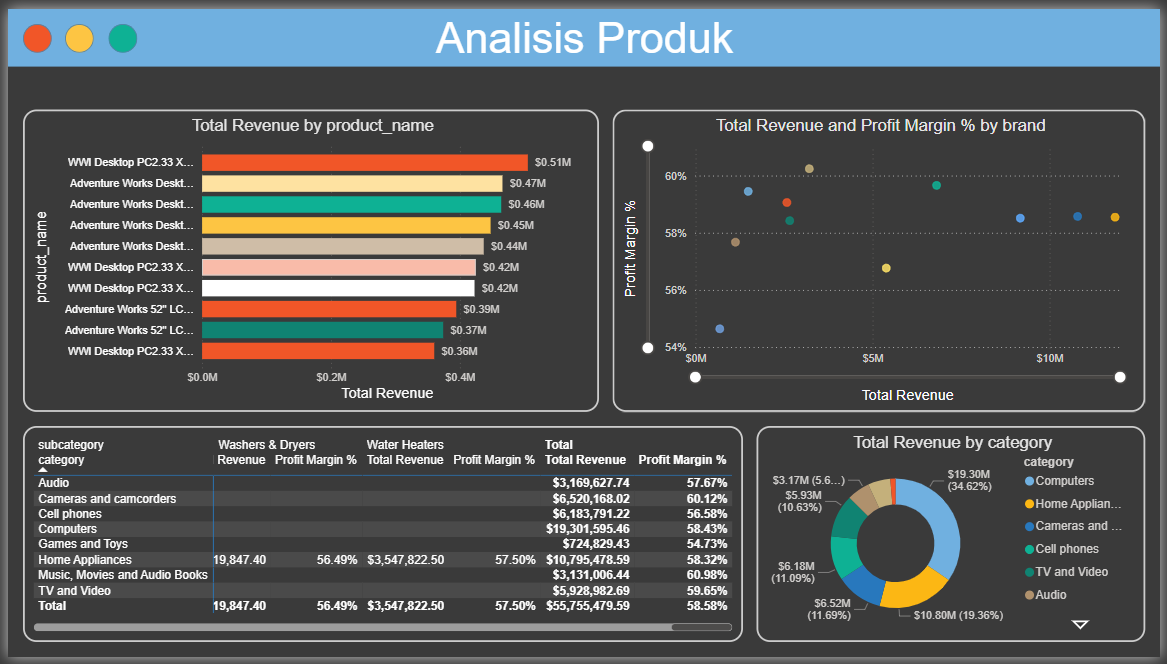

Layout of this report page (visuals, bound fields, positions):
{"tool":"powerbi","page":{"name":"Analisis Produk","canvas":[1280,720],"ordinal":1},"visuals":[{"type":"clusteredBarChart","fields":{"Category":["retail_db products.product_name"],"Y":["retail_db sales.Total Revenue"]},"box":[16,112,640,336],"z":0},{"type":"donutChart","fields":{"Category":["retail_db products.category"],"Y":["retail_db sales.Total Revenue"]},"box":[832,464,432,240],"z":1000},{"type":"scatterChart","fields":{"Category":["retail_db products.brand"],"X":["retail_db sales.Total Revenue"],"Y":["retail_db sales.Profit Margin %"]},"box":[672,112,592,336],"z":2000},{"type":"pivotTable","fields":{"Rows":["retail_db products.category"],"Columns":["retail_db products.subcategory"],"Values":["retail_db sales.Total Revenue","retail_db sales.Profit Margin %"]},"box":[16,464,800,240],"z":3000},{"type":"shape","box":[0,0,1280,64],"z":4000},{"type":"textbox","box":[16,0,1248,80],"z":5000},{"type":"shape","box":[16,16,32,32],"z":6000},{"type":"shape","box":[64,16,32,32],"z":7000},{"type":"shape","box":[112,16,32,32],"z":8000}]}

Visuals, with their boxes in screenshot pixels (x1, y1, x2, y2):
clusteredBarChart - retail_db products.product_name x retail_db sales.Total Revenue: <box>20,107,596,409</box>
donutChart - retail_db products.category x retail_db sales.Total Revenue: <box>754,423,1143,639</box>
scatterChart - retail_db products.brand x retail_db sales.Total Revenue: <box>610,107,1143,409</box>
pivotTable - retail_db products.category x retail_db products.subcategory: <box>20,423,740,639</box>
shape: <box>6,6,1157,64</box>
textbox: <box>20,6,1143,78</box>
shape: <box>20,20,49,49</box>
shape: <box>64,20,92,49</box>
shape: <box>107,20,136,49</box>
